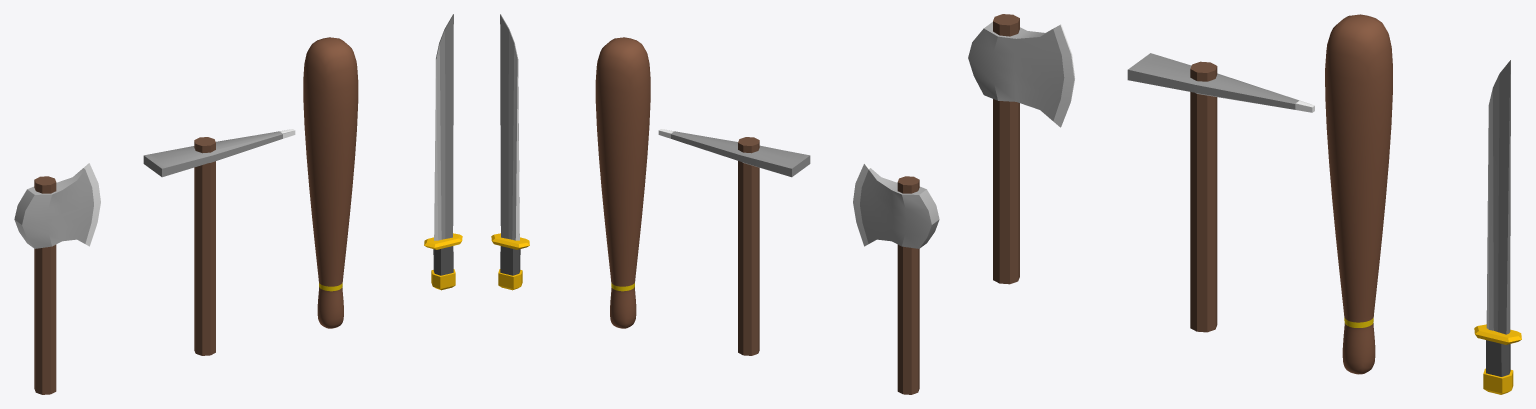
Rendered from instruments.fbx.
3 renders of one model, left to right at view 1: azimuth 30°, elevation 25°; view 2: azimuth 150°, elevation 25°; view 3: azimuth 330°, elevation 25°, orthographic. The views are drawn at different scales.
Parts seen in each view (by area): view 1: Cube.002, Cube.005, Cube.003, Cube.001; view 2: Cube.002, Cube.005, Cube.003, Cube.001; view 3: Cube.002, Cube.005, Cube.003, Cube.001.
Boxes of the visible parts, x1,y1,x2,y2 form: Cube.002: (303,37,358,328); Cube.005: (14,163,100,394); Cube.003: (143,129,295,355); Cube.001: (424,14,462,290); Cube.002: (595,37,650,328); Cube.005: (853,163,939,394); Cube.003: (658,129,810,355); Cube.001: (491,14,529,290); Cube.002: (1325,14,1392,374); Cube.005: (968,14,1074,284); Cube.003: (1127,53,1314,332); Cube.001: (1474,60,1521,394).
Bounding box in the file's own units: 1290 × 790 × 141.
